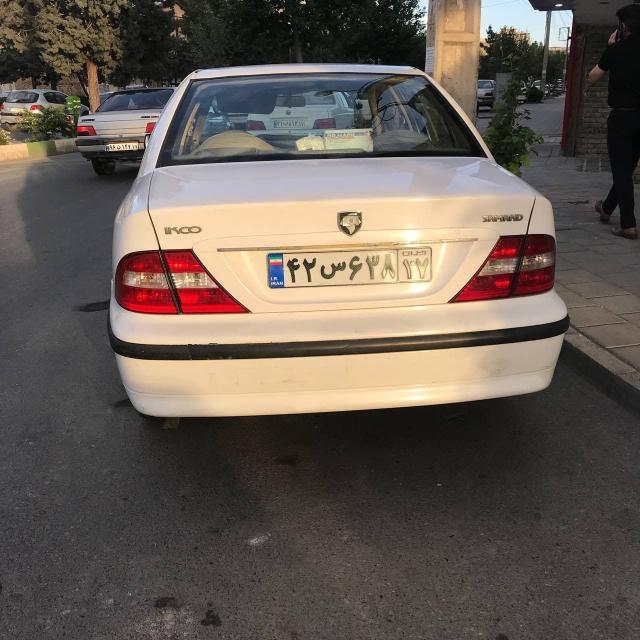Plates: (267, 246, 432, 289)
